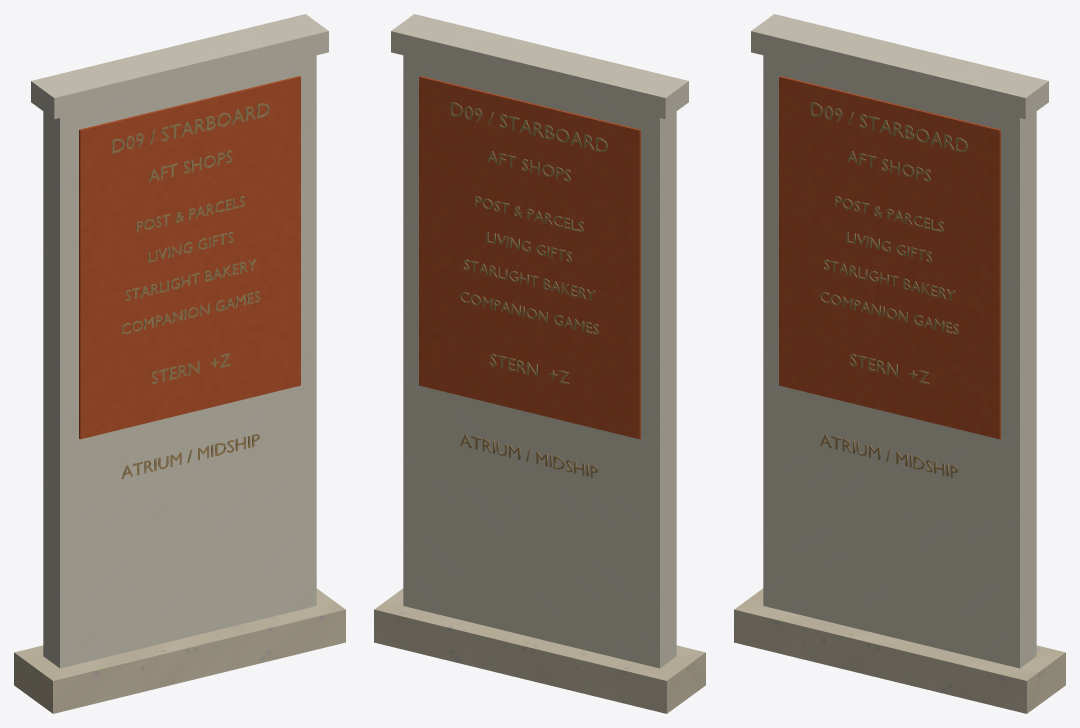
The model's file is guide_starboard_aft_r002.glb.
3 views of the same model, side by side, from view 1: azimuth 30°, elevation 25°; view 2: azimuth 150°, elevation 25°; view 3: azimuth 330°, elevation 25° (orthographic).
Visible parts, largest first — view 1: profiled_column, recessed_orange_directory, weighted_plinth, crown, heading, atrium, venue_3, venue_2, venue_0, district, venue_1; view 2: profiled_column, recessed_orange_directory_back, weighted_plinth, crown, heading_back, atrium_back, venue_3_back, venue_2_back, venue_0_back, venue_1_back, district_back; view 3: profiled_column, recessed_orange_directory, weighted_plinth, crown, heading, atrium, venue_3, venue_2, venue_0, venue_1, district.
Part boxes in pixels (box(x1,y1,x2,y2)): profiled_column: box(43, 55, 316, 668); recessed_orange_directory: box(79, 76, 300, 439); weighted_plinth: box(14, 588, 345, 713); crown: box(31, 14, 328, 119); heading: box(112, 103, 269, 153); atrium: box(121, 434, 259, 478); venue_3: box(121, 291, 260, 334); venue_2: box(125, 258, 256, 300); venue_0: box(136, 196, 245, 232); district: box(148, 150, 232, 182); venue_1: box(148, 232, 233, 262); profiled_column: box(403, 55, 676, 668); recessed_orange_directory_back: box(419, 76, 640, 439); weighted_plinth: box(374, 588, 705, 713); crown: box(391, 14, 688, 119); heading_back: box(450, 101, 607, 152); atrium_back: box(460, 434, 598, 477); venue_3_back: box(460, 292, 598, 334); venue_2_back: box(463, 259, 594, 300); venue_0_back: box(475, 195, 583, 232); venue_1_back: box(486, 231, 571, 262); district_back: box(487, 151, 570, 181); profiled_column: box(763, 55, 1036, 668); recessed_orange_directory: box(779, 76, 1000, 439); weighted_plinth: box(734, 588, 1065, 713); crown: box(751, 14, 1048, 119); heading: box(810, 101, 967, 152); atrium: box(820, 434, 958, 477); venue_3: box(820, 292, 958, 334); venue_2: box(823, 259, 954, 300); venue_0: box(835, 195, 943, 232); venue_1: box(846, 231, 931, 262); district: box(847, 151, 930, 181).
Bounding box in the file's own units: 1.3 × 2.58 × 0.3.
Materials: 4 (4 with a texture image).
